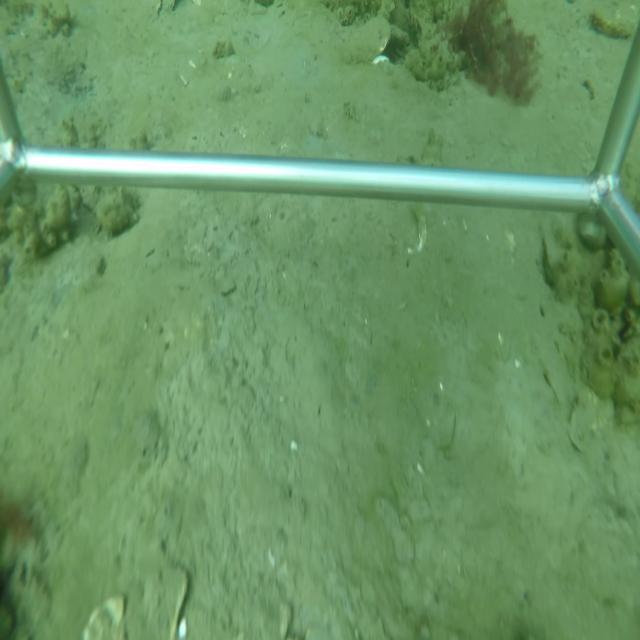Oyster-Indeterminate: (342, 14, 392, 64)
